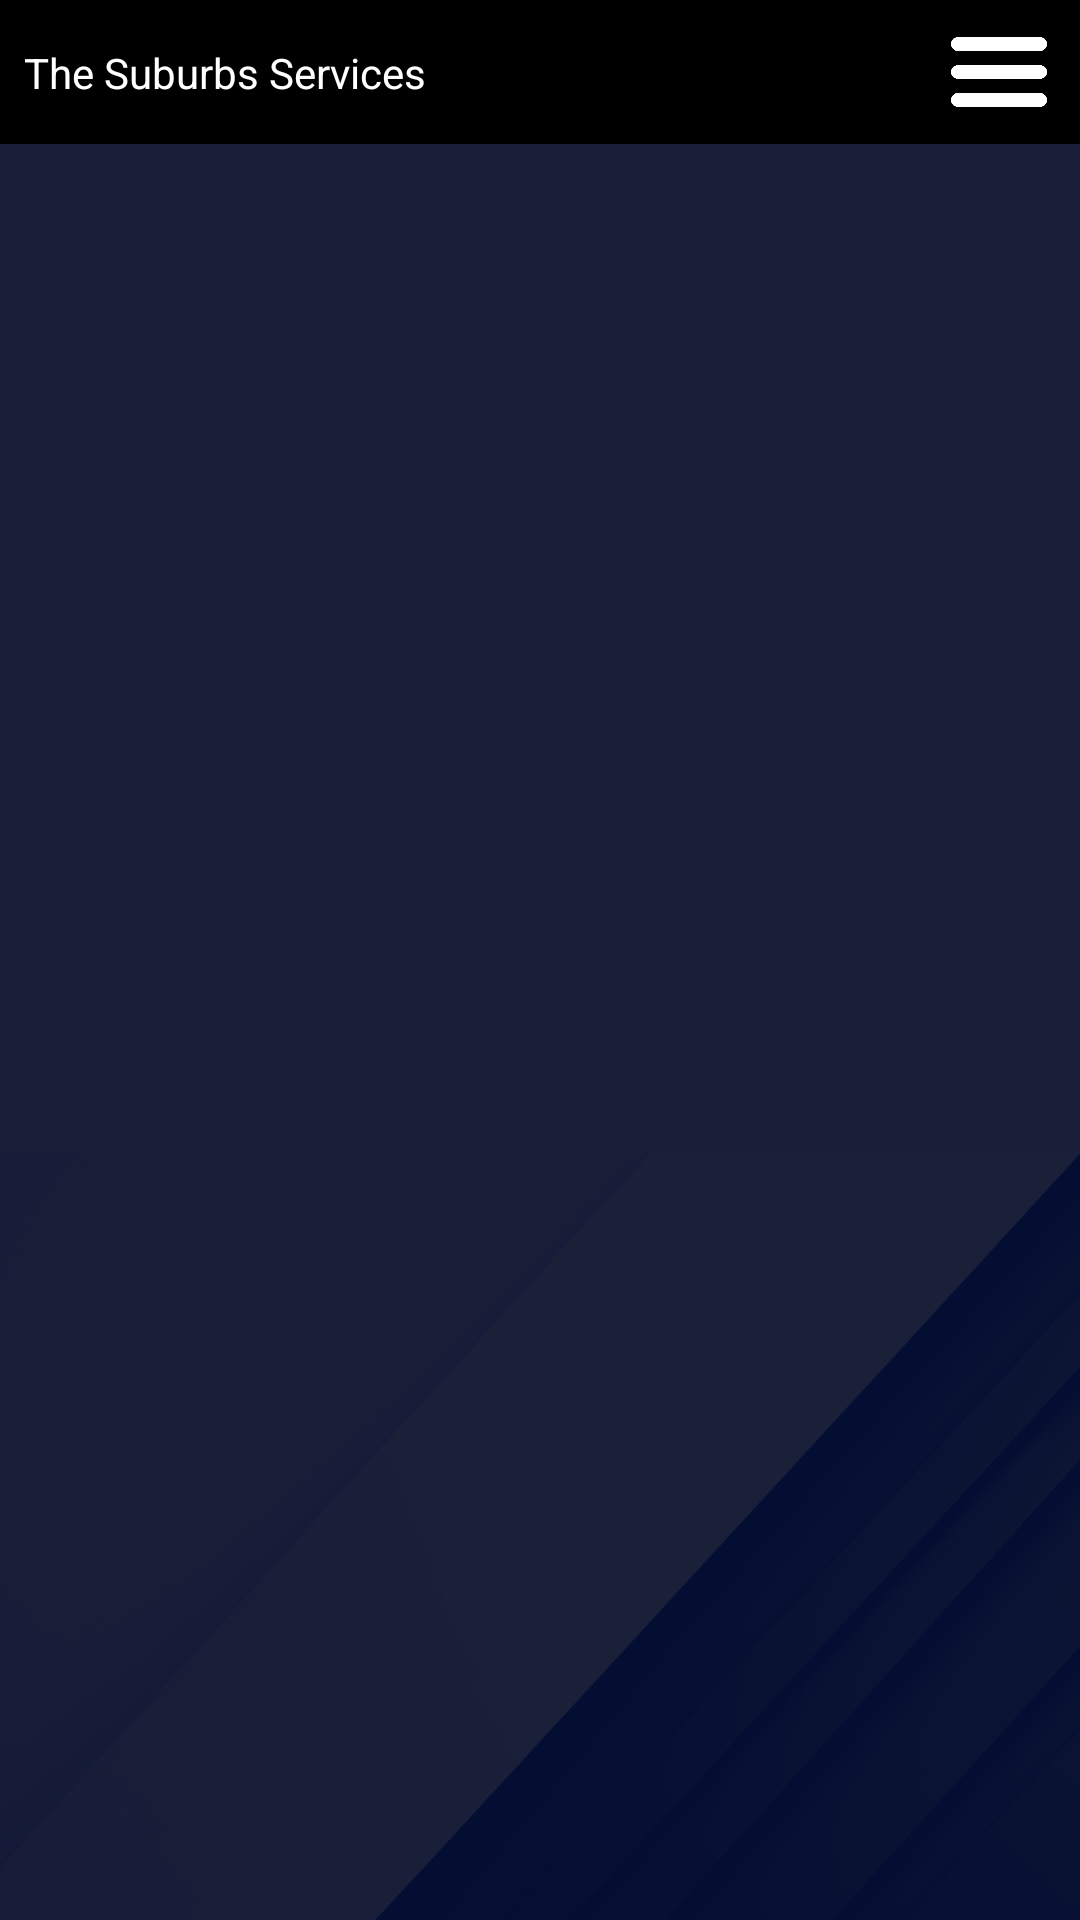

Point at icon controls on the screen. Image size 1080 × 1920, points as [x,y].
menu: [999,72]
